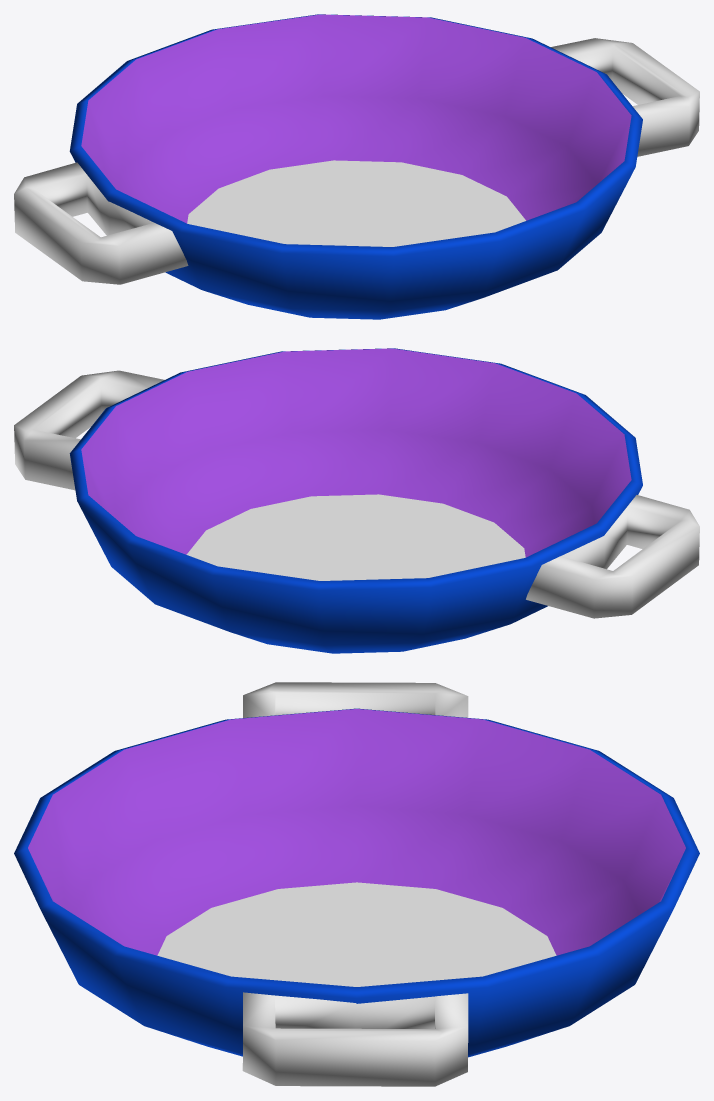
File: ScrambledEggWokUncooked.fbx
3 views of the same model, one above another, from view 1: azimuth 30°, elevation 25°; view 2: azimuth 150°, elevation 25°; view 3: azimuth 270°, elevation 25° (orthographic). The views are drawn at different scales.
Visible parts, largest first — view 1: Cylinder, MixedEgg, Cylinder.003; view 2: Cylinder, MixedEgg, Cylinder.003; view 3: Cylinder, MixedEgg, Cylinder.003.
Boxes of the visible parts, x1,y1,x2,y2 form: Cylinder: [69, 14, 642, 319]; MixedEgg: [187, 160, 525, 246]; Cylinder.003: [14, 38, 699, 284]; Cylinder: [69, 348, 642, 653]; MixedEgg: [186, 494, 525, 580]; Cylinder.003: [14, 370, 699, 618]; Cylinder: [14, 708, 699, 1057]; MixedEgg: [157, 882, 556, 986]; Cylinder.003: [242, 682, 468, 1086].
Size of the model in its own units: 66.75 by 11.75 by 54.02.
